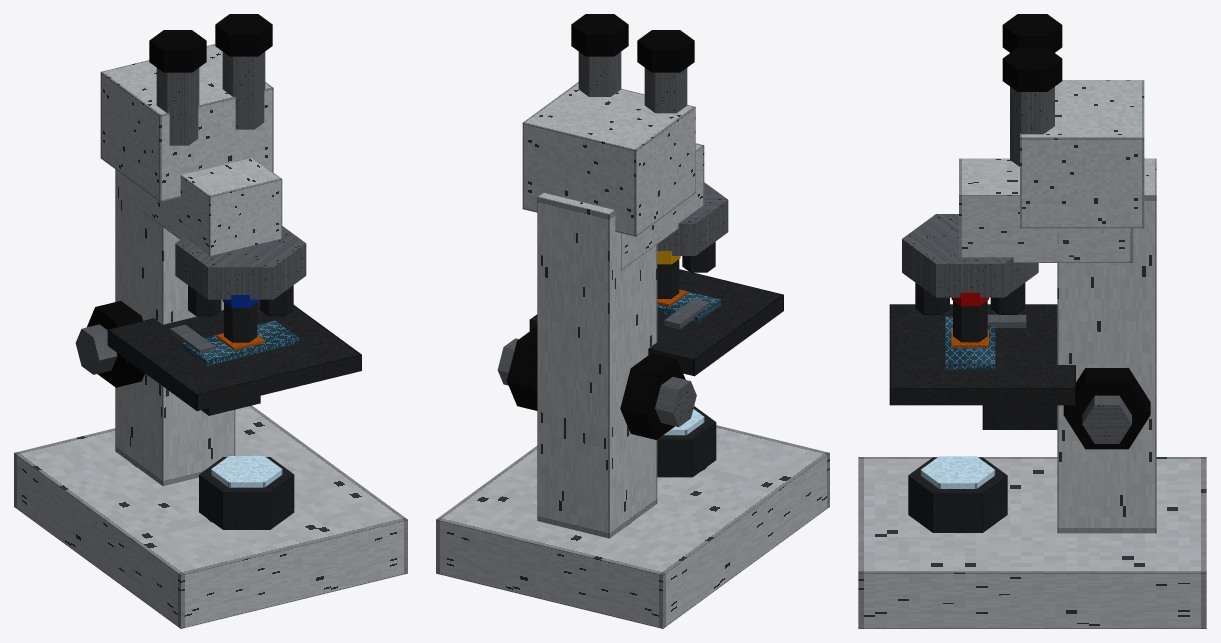
The model's file is microscope.glb.
The picture shows the model from 3 angles, left to right: view 1: azimuth 30°, elevation 25°; view 2: azimuth 150°, elevation 25°; view 3: azimuth 270°, elevation 25°; orthographic projection. The views are drawn at different scales.
Visible parts, largest first — view 1: microscope; view 2: microscope; view 3: microscope.
Part boxes in pixels (x1,y1,x2,y2): microscope: (14,14,407,628); microscope: (436,14,829,628); microscope: (858,14,1206,628).
Bounding box in the file's own units: 0.22 × 0.47 × 0.28.
1 material, 1 textured.
